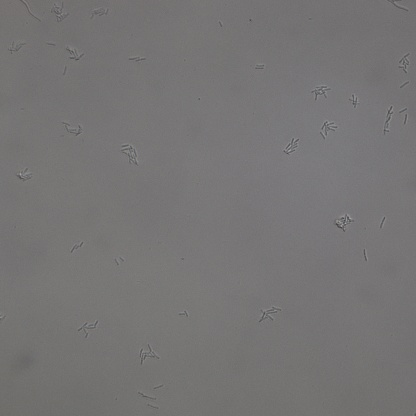R(colony): (77, 320, 98, 342), (138, 343, 160, 364), (48, 1, 69, 23), (120, 142, 137, 167), (258, 306, 282, 322), (320, 120, 338, 140), (311, 84, 331, 102), (334, 213, 354, 231), (61, 120, 84, 135), (282, 136, 299, 156), (382, 105, 393, 135), (65, 46, 84, 63), (397, 53, 411, 74), (16, 167, 35, 181), (91, 7, 109, 18), (69, 241, 83, 253), (349, 94, 360, 108)
